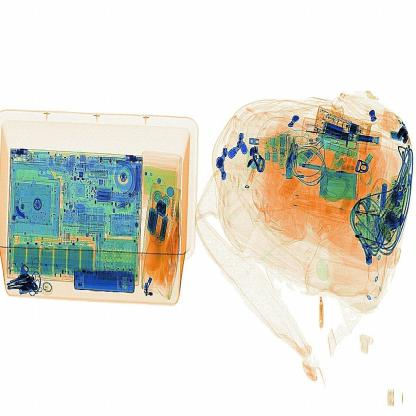pliers: (280, 139, 306, 177)
